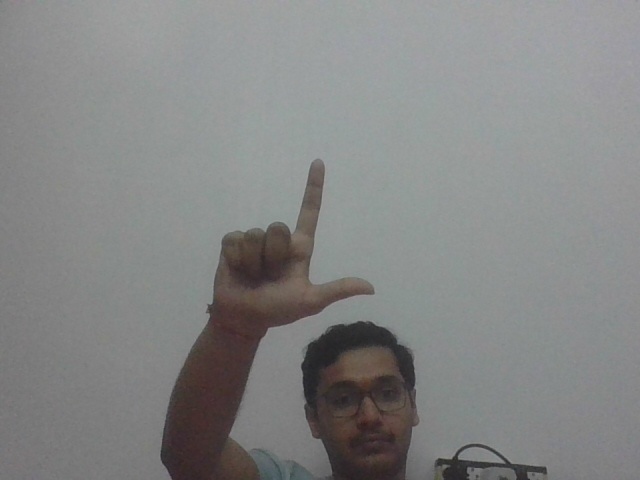L: (213, 154, 380, 317)
